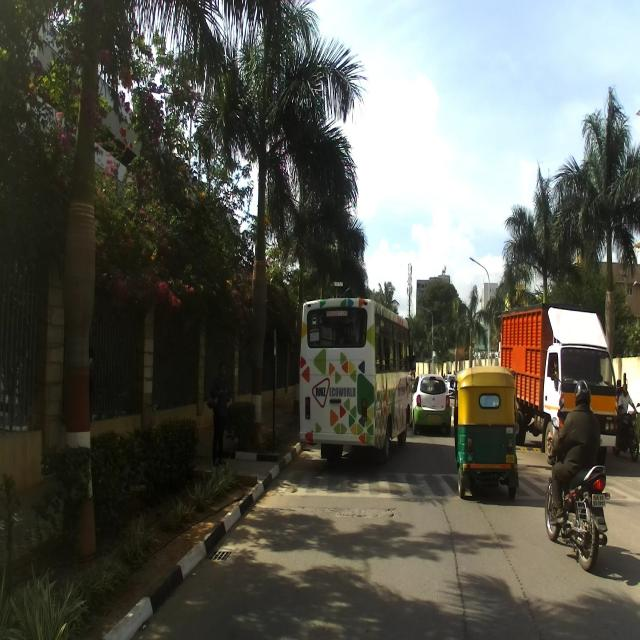autorickshaw: (450, 366, 520, 499)
bus: (298, 292, 416, 463)
motorcycle: (544, 417, 611, 572), (613, 402, 639, 463)
truck: (497, 298, 628, 470)
